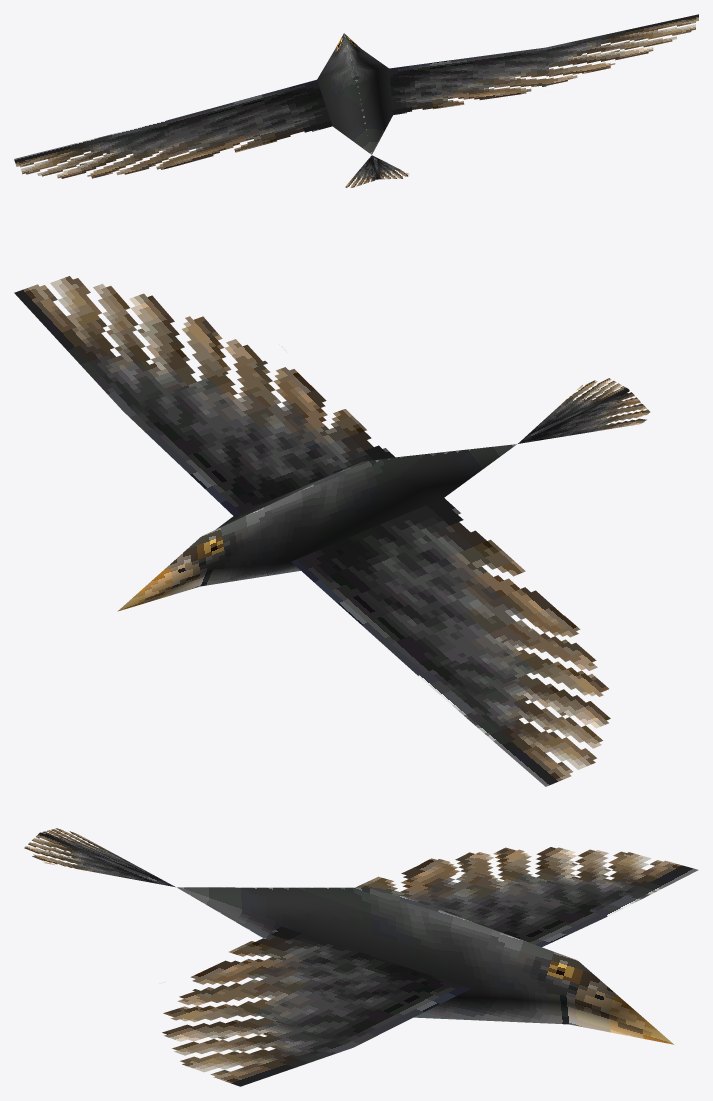
File: tex.obj
3 renders of one model, top to bottom at view 1: azimuth 30°, elevation 25°; view 2: azimuth 150°, elevation 25°; view 3: azimuth 270°, elevation 25°, orthographic. The views are drawn at different scales.
Visible parts, largest first — view 1: world_critter_birds_bird02.m2_Geoset_000; view 2: world_critter_birds_bird02.m2_Geoset_000; view 3: world_critter_birds_bird02.m2_Geoset_000.
Part boxes in pixels (box(x1,y1,x2,y2)): world_critter_birds_bird02.m2_Geoset_000: box(14, 14, 698, 187); world_critter_birds_bird02.m2_Geoset_000: box(14, 276, 650, 786); world_critter_birds_bird02.m2_Geoset_000: box(24, 828, 698, 1086).
Bounding box in the file's own units: 1.71 × 0.3798 × 1.12.
Materials: 1 (1 with a texture image).
